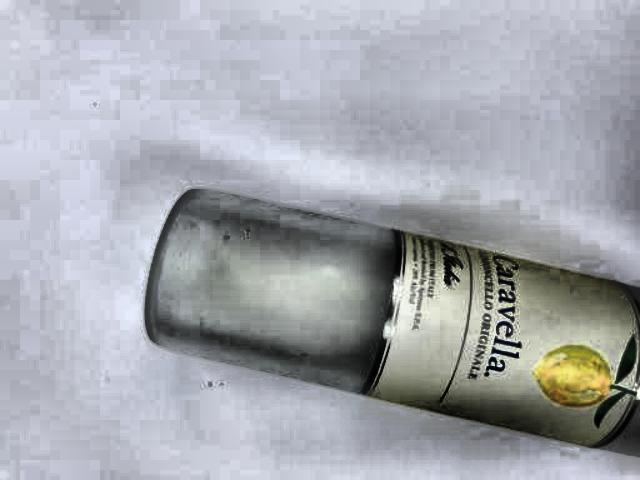Bottles: (128, 178, 640, 465)
